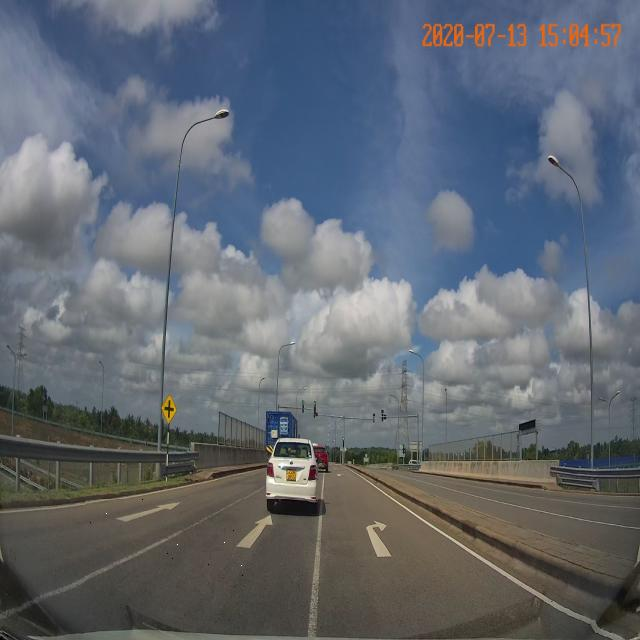forward: (85, 500, 324, 587)
